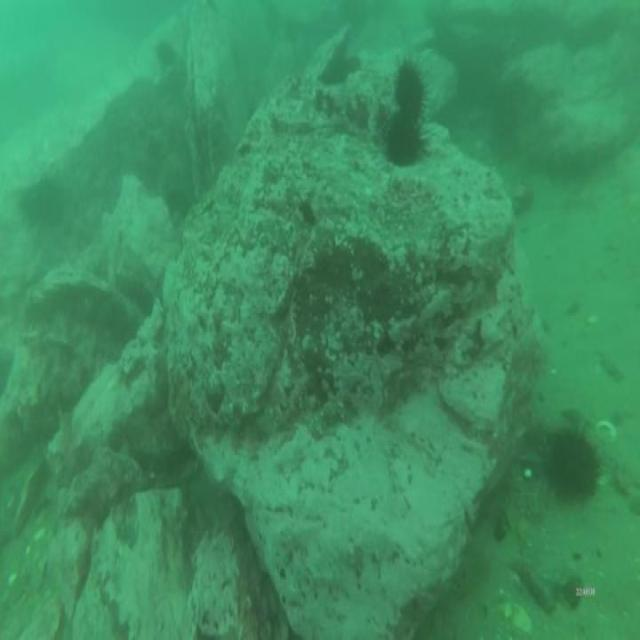echinus: (545, 419, 603, 507), (18, 177, 72, 234), (381, 108, 426, 169), (389, 54, 427, 120), (151, 35, 181, 74)
holothurian: (507, 466, 552, 526)
